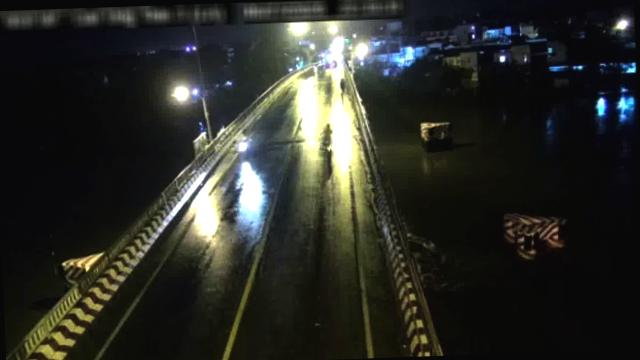Bike: (320, 122, 334, 151), (236, 134, 250, 160)
